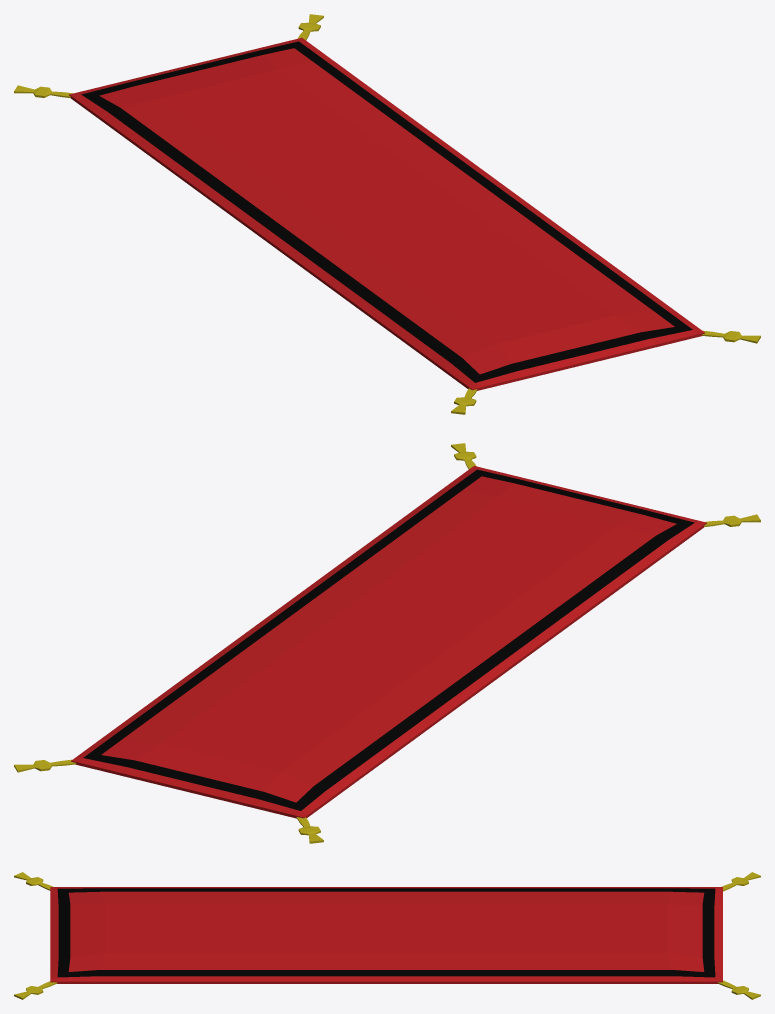
The model's file is Carpet1x3.glb.
3 views of the same model, one above another, from view 1: azimuth 30°, elevation 25°; view 2: azimuth 150°, elevation 25°; view 3: azimuth 270°, elevation 25° (orthographic). The views are drawn at different scales.
Visible parts, largest first — view 1: Cube; view 2: Cube; view 3: Cube.
Boxes of the visible parts, x1,y1,x2,y2 form: Cube: [14, 14, 760, 414]; Cube: [14, 443, 760, 843]; Cube: [14, 872, 760, 999].
Size of the model in its own units: 1.33 by 0.0426 by 3.32.
